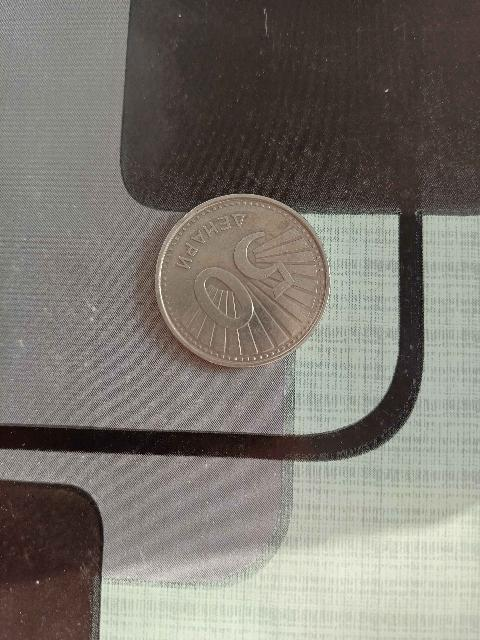coin: (156, 200, 331, 363)
